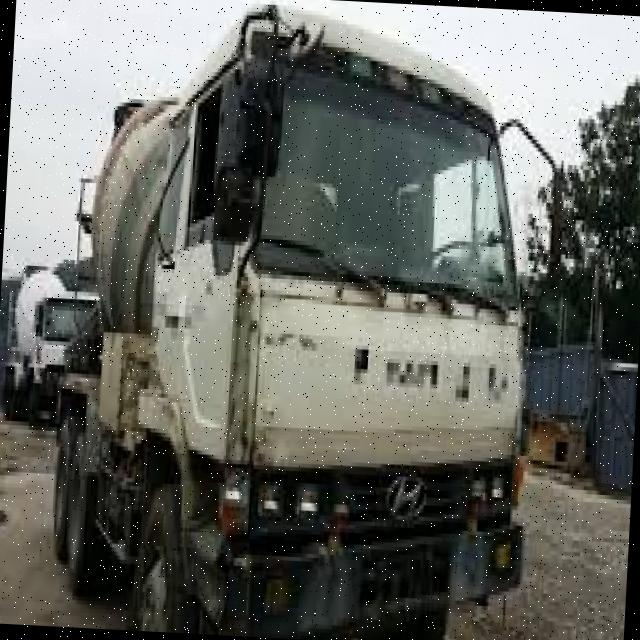Mixer Truck: (44, 0, 551, 640), (0, 260, 108, 432)
